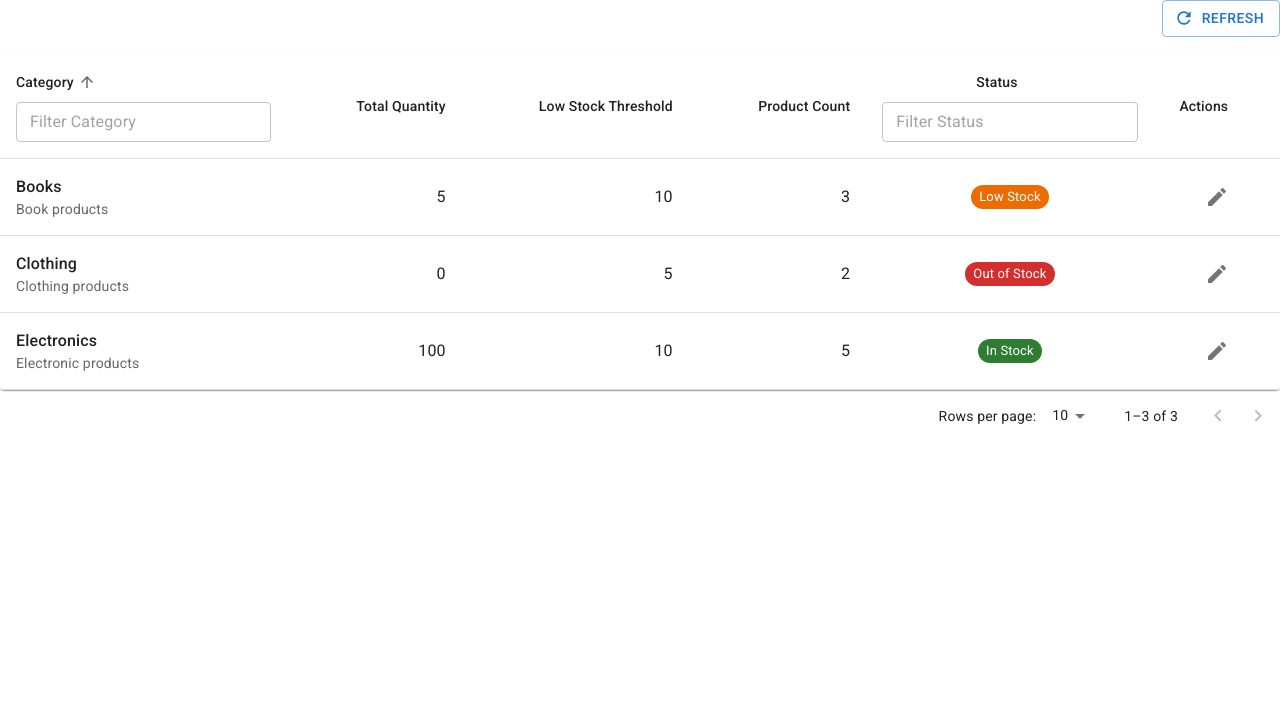
CategoryInventoryTable › actions › should open edit modal when edit button is clicked
Step 1. Click the button named "edit-" → (1217, 197), box [1200,180,1234,214]
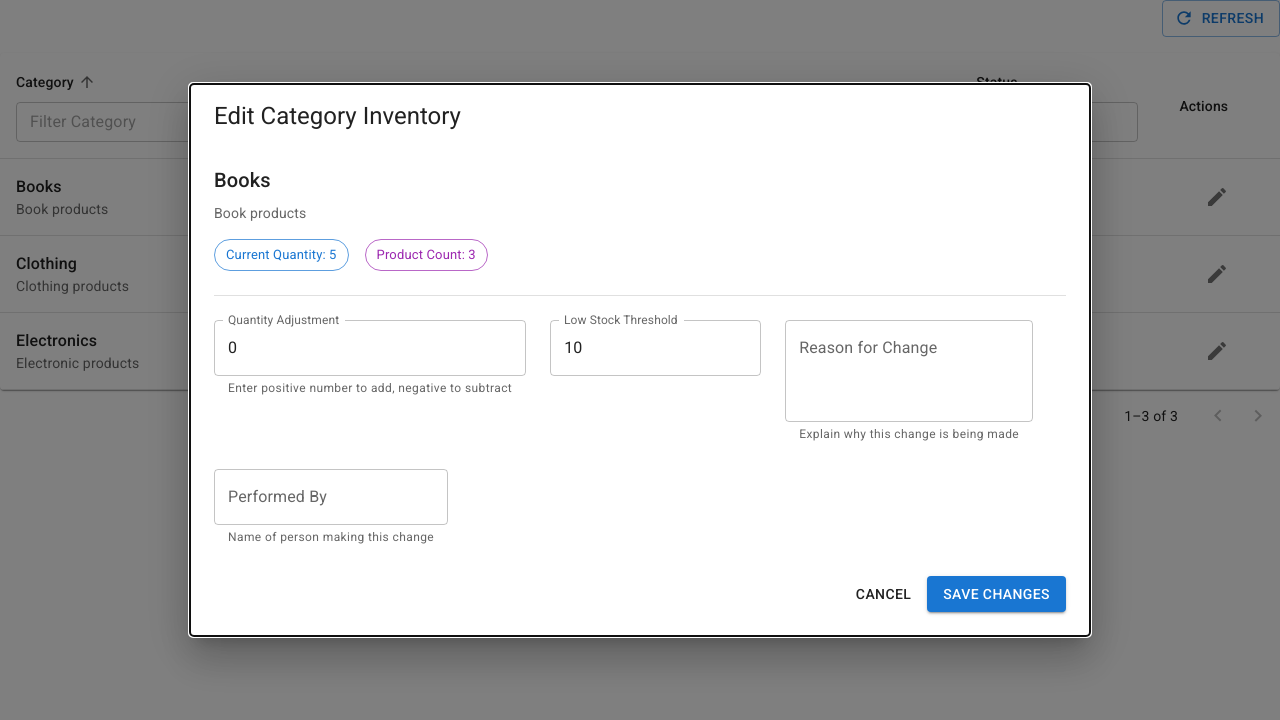
Check: the text "Edit Category Inventory" is shown, box [214,102,461,130]
